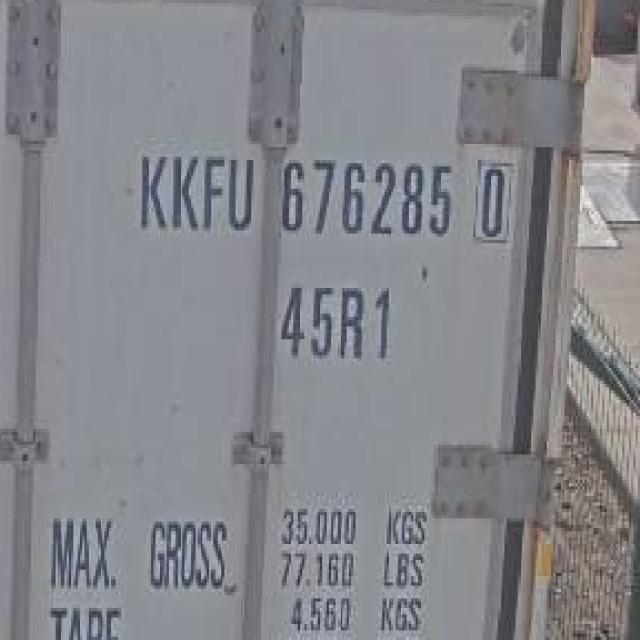dv: (468, 154, 520, 250)
owner: (130, 142, 258, 238)
serial: (276, 142, 454, 242)
size: (271, 272, 394, 362)
